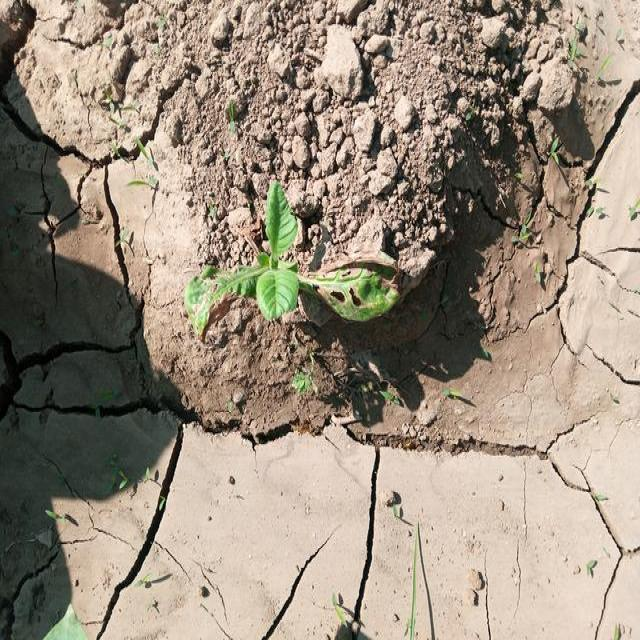crop: (187, 190, 397, 330)
